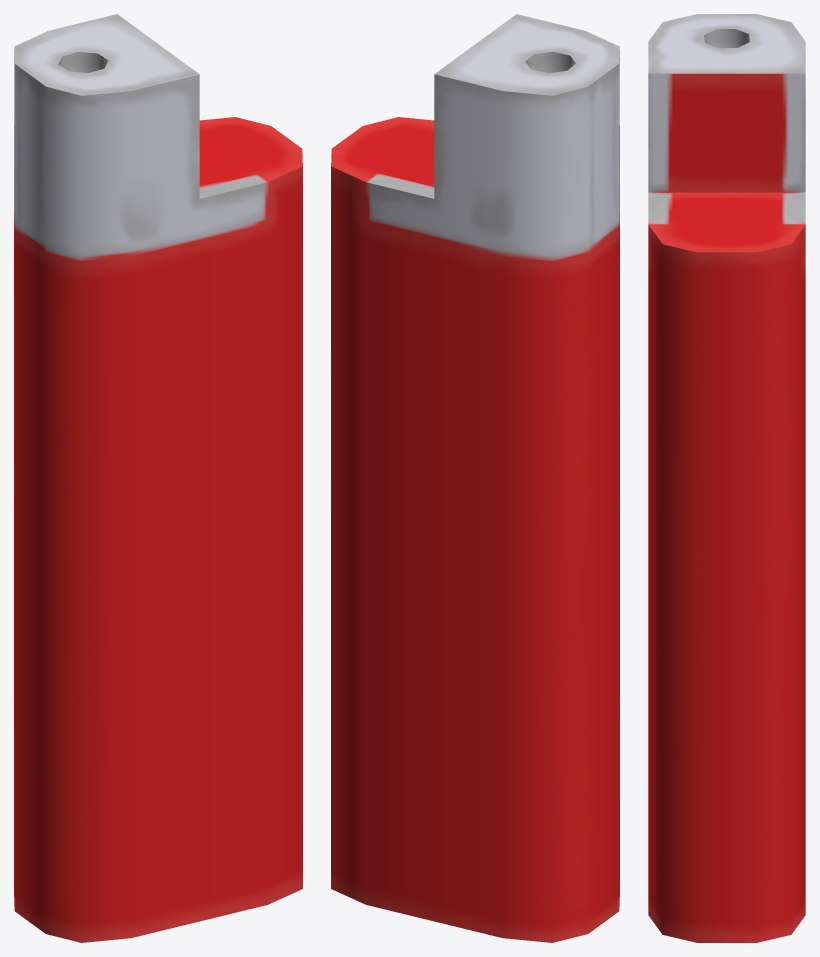
The model's file is Lighter.fbx.
3 renders of one model, left to right at view 1: azimuth 30°, elevation 25°; view 2: azimuth 150°, elevation 25°; view 3: azimuth 270°, elevation 25°, orthographic. The views are drawn at different scales.
Parts seen in each view (by area): view 1: Lighter; view 2: Lighter; view 3: Lighter.
Boxes of the visible parts, box(x1,y1,x2,y2) form: Lighter: box(14, 14, 302, 942); Lighter: box(331, 14, 619, 942); Lighter: box(648, 14, 805, 942).
Size of the model in its own units: 0.0254 by 0.0801 by 0.0141.
